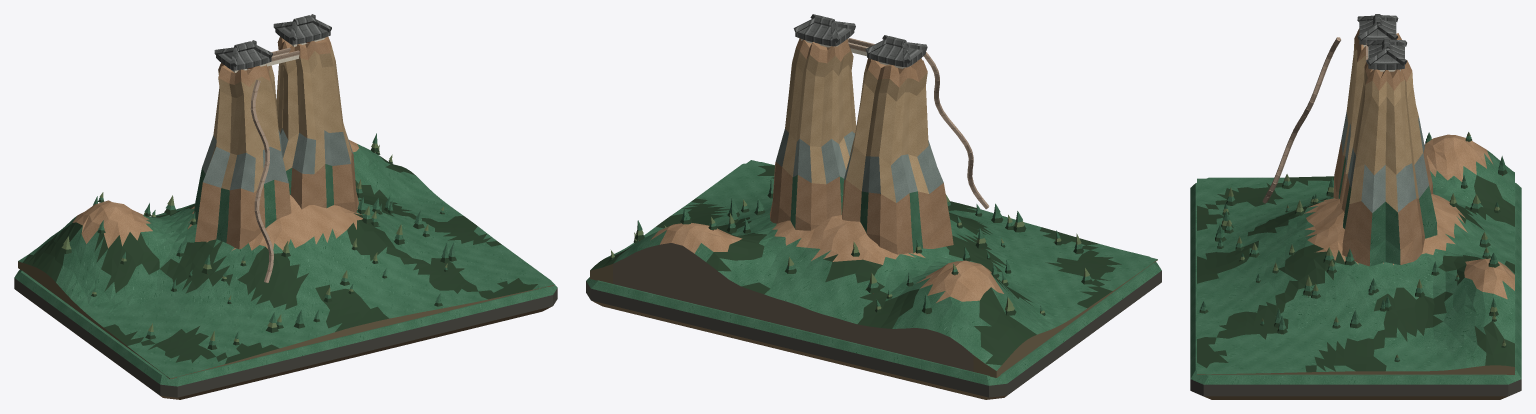
Rendered from fanjingshan.glb.
3 views of the same model, side by side, from view 1: azimuth 30°, elevation 25°; view 2: azimuth 150°, elevation 25°; view 3: azimuth 270°, elevation 25° (orthographic). The views are drawn at different scales.
Parts seen in each view (by area): view 1: 梵净山·红云金顶; view 2: 梵净山·红云金顶; view 3: 梵净山·红云金顶.
Boxes of the visible parts, <box> form: 梵净山·红云金顶: <box>14,14,557,399</box>; 梵净山·红云金顶: <box>586,14,1161,399</box>; 梵净山·红云金顶: <box>1190,14,1521,399</box>.
Size of the model in its own units: 6.15 by 3.91 by 4.25.
Materials: 16 (9 with a texture image).
